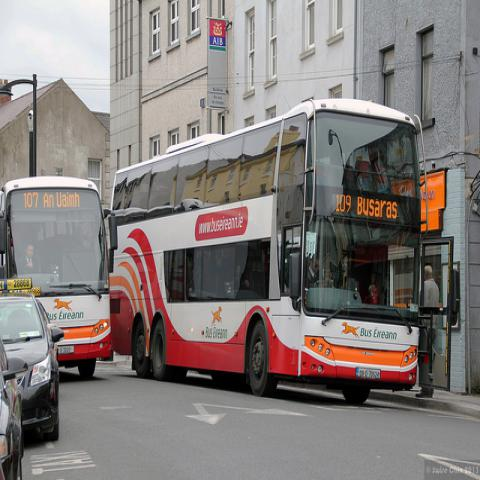bus: (104, 99, 422, 408), (0, 178, 114, 384)
car: (2, 282, 66, 418), (0, 328, 25, 478)
